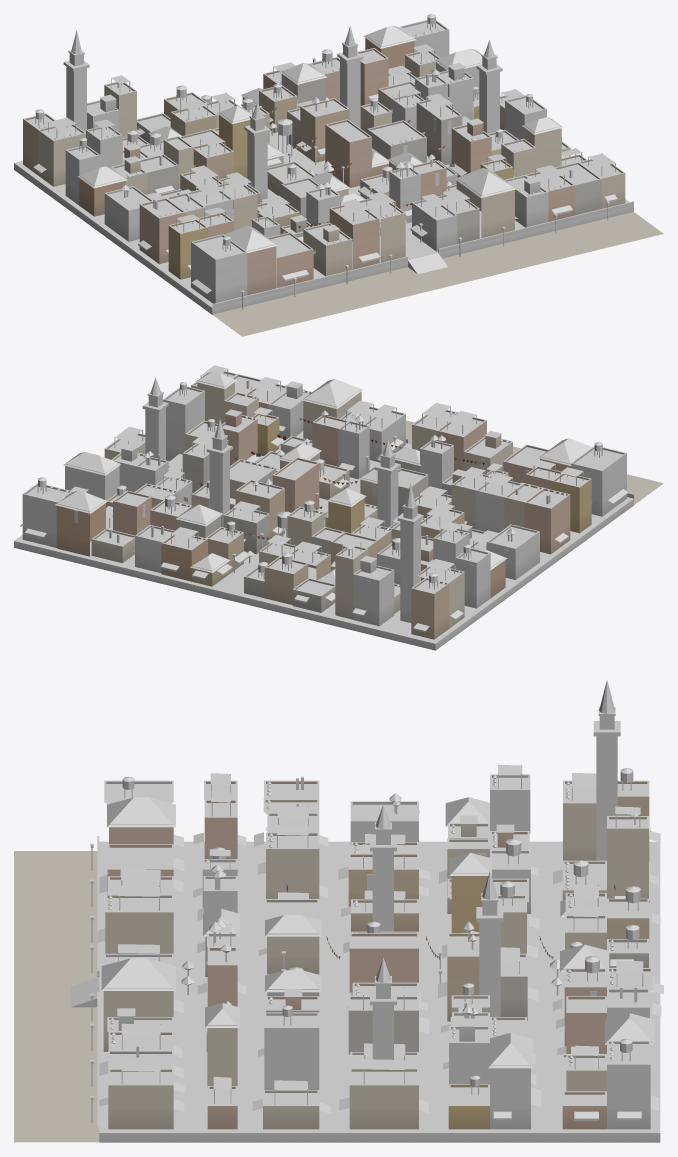
Rendered from ordo_back_low.glb.
3 renders of one model, top to bottom at view 1: azimuth 30°, elevation 25°; view 2: azimuth 150°, elevation 25°; view 3: azimuth 270°, elevation 25°, orthographic. The views are drawn at different scales.
Parts seen in each view (by area): view 1: ordo_back_low; view 2: ordo_back_low; view 3: ordo_back_low.
Part boxes in pixels (<box>): ordo_back_low: <box>14,14,663,336</box>; ordo_back_low: <box>14,365,663,650</box>; ordo_back_low: <box>14,679,663,1142</box>.
Size of the model in its own units: 97.23 by 31.44 by 91.5.
